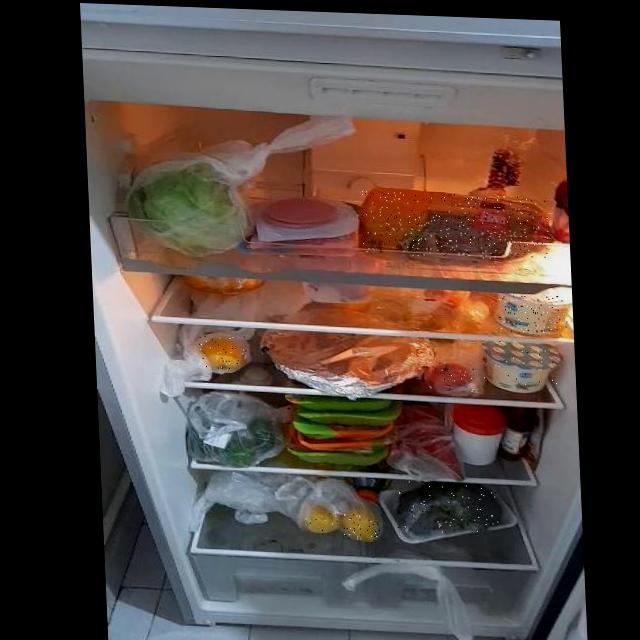bread: (361, 191, 550, 261)
broccoli: (396, 481, 499, 535)
lemon: (199, 335, 249, 371), (302, 504, 339, 534), (342, 513, 380, 541)
tomato: (428, 361, 475, 393)
yoghurt: (482, 340, 561, 392), (498, 292, 570, 334)
